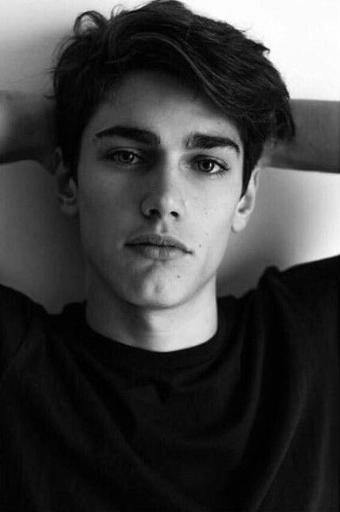left_eye: (188, 156, 230, 180)
left_lip_corner: (183, 246, 199, 264)
right_eye: (102, 148, 151, 173)
right_lip_corner: (121, 236, 139, 256)
